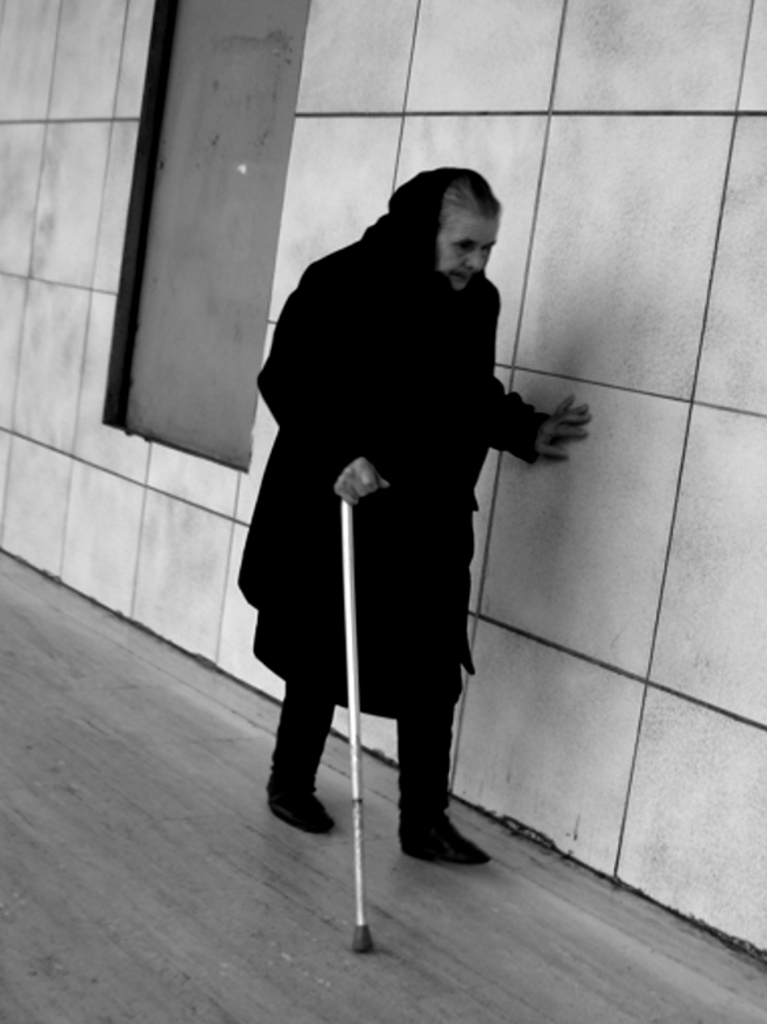face: (433, 203, 494, 291)
